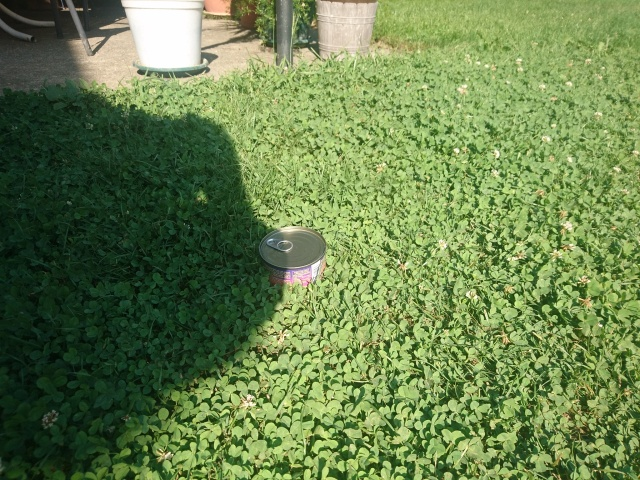Giana Tuna Salad Mexico 185g: (255, 223, 328, 296)
